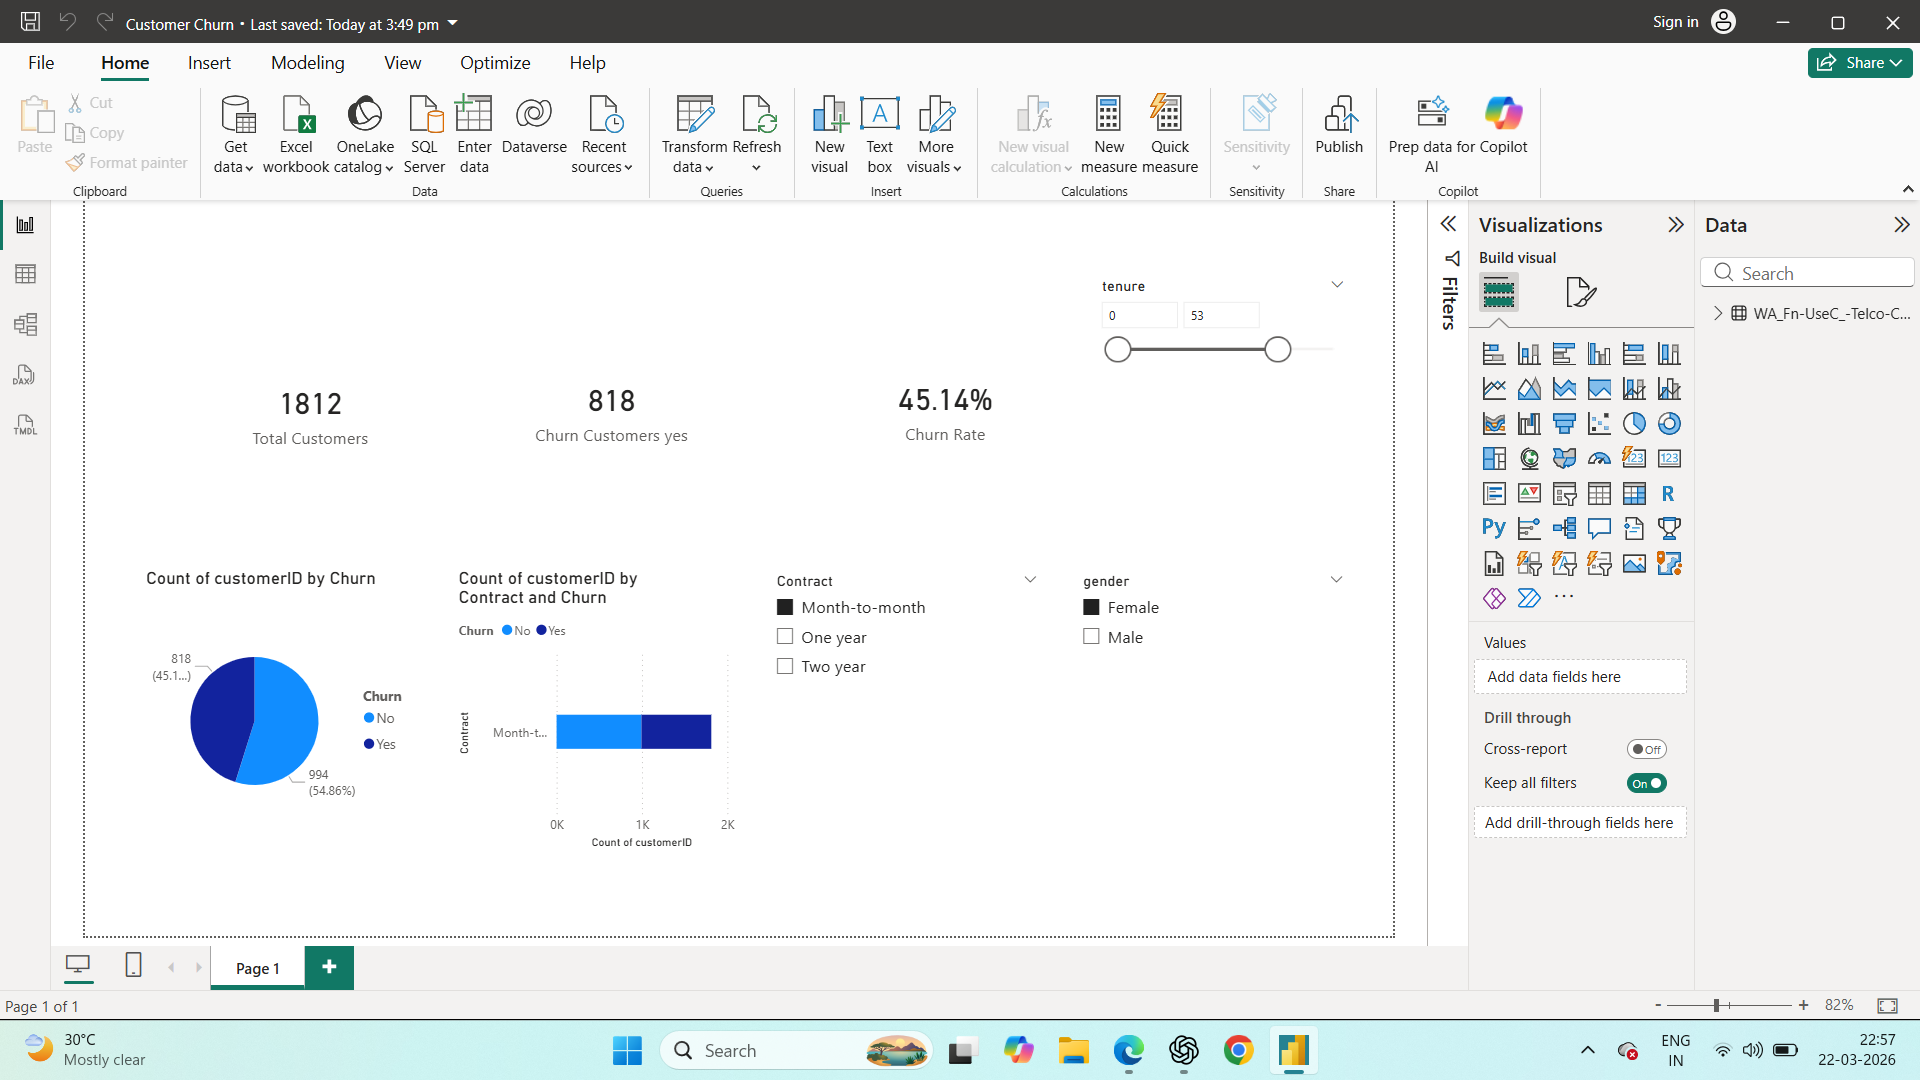

This screenshot's page, from the dashboard's own definition file:
{"tool":"powerbi","page":{"name":"Page 1","canvas":[1280,720],"ordinal":0},"visuals":[{"type":"card","fields":{"Values":["WA_Fn-UseC_-Telco-Customer-Churn.Total Customers"]},"box":[81,72.2,279.9,272.3],"z":0},{"type":"card","fields":{"Values":["WA_Fn-UseC_-Telco-Customer-Churn.Churn Customers yes"]},"box":[374.8,72.2,279.9,265.9],"z":1000},{"type":"card","fields":{"Values":["WA_Fn-UseC_-Telco-Customer-Churn.Churn Rate"]},"box":[701.5,70.9,279.9,267.2],"z":2000},{"type":"pieChart","fields":{"Category":["WA_Fn-UseC_-Telco-Customer-Churn.Churn"],"Y":["CountNonNull(WA_Fn-UseC_-Telco-Customer-Churn.customerID)"]},"box":[54.5,359.6,279.9,279.9],"z":3000},{"type":"barChart","fields":{"Category":["WA_Fn-UseC_-Telco-Customer-Churn.Contract"],"Y":["CountNonNull(WA_Fn-UseC_-Telco-Customer-Churn.customerID)"],"Series":["WA_Fn-UseC_-Telco-Customer-Churn.Churn"]},"box":[360.9,359.6,279.9,279.9],"z":4000},{"type":"slicer","fields":{"Values":["WA_Fn-UseC_-Telco-Customer-Churn.Contract"]},"box":[663.6,359.6,279.9,279.9],"z":5000},{"type":"slicer","fields":{"Values":["WA_Fn-UseC_-Telco-Customer-Churn.gender"]},"box":[963.7,359.6,279.9,279.9],"z":6000},{"type":"slicer","fields":{"Values":["WA_Fn-UseC_-Telco-Customer-Churn.tenure"]},"box":[981.4,70.9,262.1,267.2],"z":7000}]}

Visuals, with their boxes on the page's 1280x720 design canvas (x1, y1, x2, y2). These are canvas units, not pixel positions in the 1920x1080 screenshot, which may show the page scaled, cropped or inside an application window:
card - WA_Fn-UseC_-Telco-Customer-Churn.Total Customers: crop(81, 72, 361, 344)
card - WA_Fn-UseC_-Telco-Customer-Churn.Churn Customers yes: crop(375, 72, 655, 338)
card - WA_Fn-UseC_-Telco-Customer-Churn.Churn Rate: crop(702, 71, 981, 338)
pieChart - WA_Fn-UseC_-Telco-Customer-Churn.Churn x CountNonNull(WA_Fn-UseC_-Telco-Customer-Churn.customerID): crop(54, 360, 334, 640)
barChart - WA_Fn-UseC_-Telco-Customer-Churn.Contract x CountNonNull(WA_Fn-UseC_-Telco-Customer-Churn.customerID): crop(361, 360, 641, 640)
slicer - WA_Fn-UseC_-Telco-Customer-Churn.Contract: crop(664, 360, 944, 640)
slicer - WA_Fn-UseC_-Telco-Customer-Churn.gender: crop(964, 360, 1244, 640)
slicer - WA_Fn-UseC_-Telco-Customer-Churn.tenure: crop(981, 71, 1244, 338)
